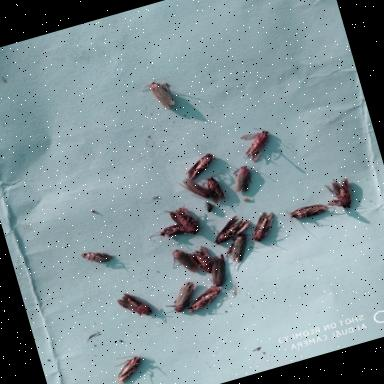pbw: (148, 201, 206, 246), (113, 282, 168, 326), (284, 194, 340, 229), (233, 122, 277, 166), (320, 172, 362, 216), (137, 74, 179, 118), (206, 211, 252, 247), (182, 280, 230, 314), (218, 232, 256, 274), (76, 238, 120, 274), (226, 159, 266, 197), (243, 207, 283, 244), (178, 148, 222, 181), (188, 238, 224, 278), (107, 350, 149, 384), (166, 244, 202, 280), (167, 278, 202, 314), (177, 170, 213, 204), (144, 220, 188, 246), (202, 172, 231, 208), (205, 254, 231, 290)
